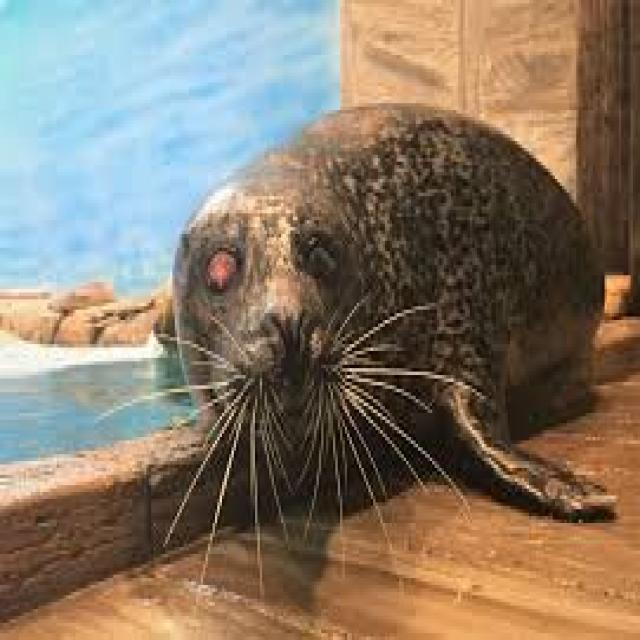seal: (156, 103, 614, 540)
